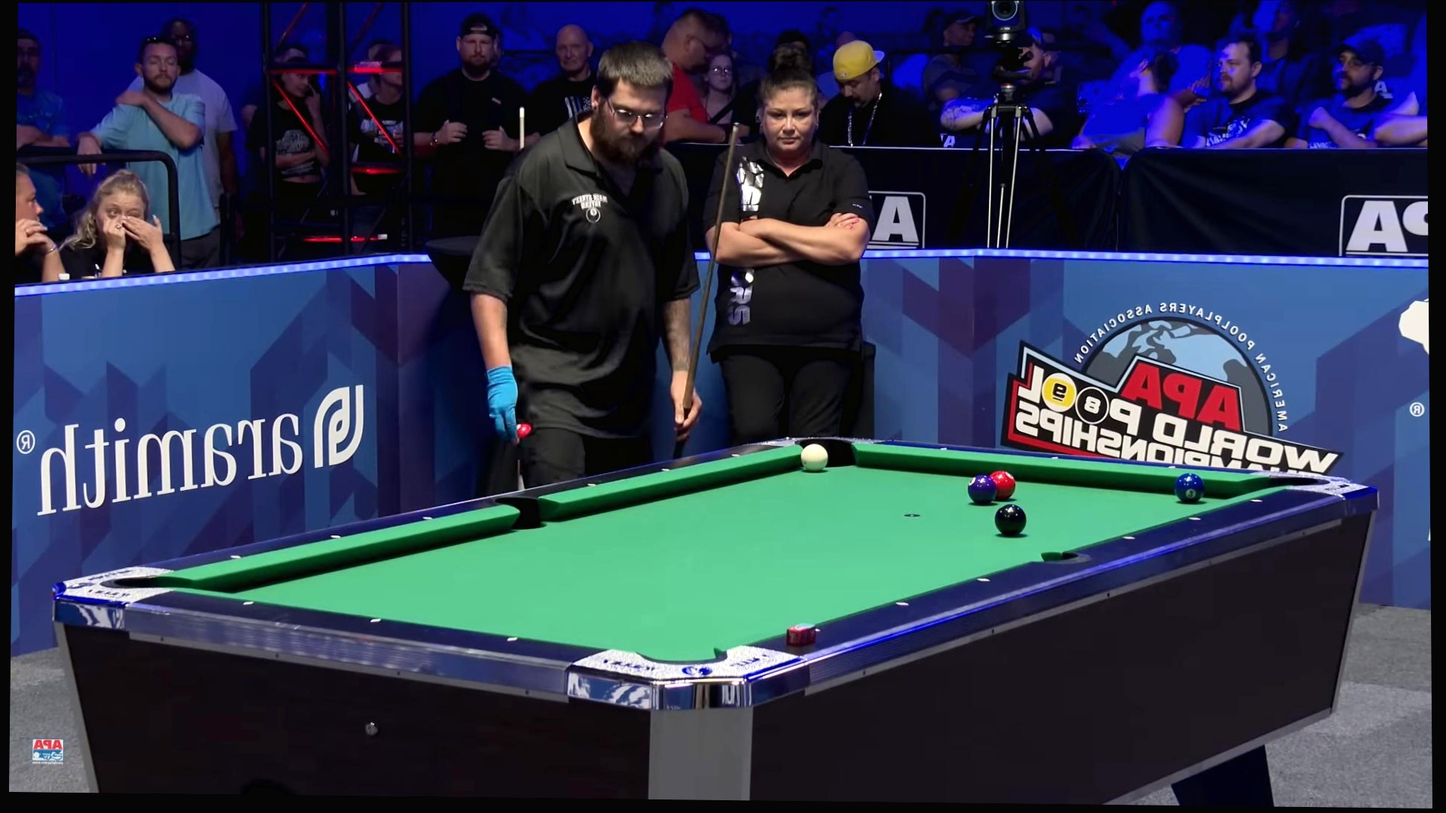Black: (894, 598, 911, 609), (1249, 495, 1266, 506), (726, 450, 743, 461), (328, 531, 345, 542), (239, 597, 256, 608), (366, 614, 383, 625), (504, 633, 521, 644), (976, 574, 992, 585), (583, 479, 599, 490), (228, 552, 244, 563), (807, 625, 824, 635), (1187, 514, 1204, 524), (1164, 462, 1181, 472), (1046, 453, 1063, 463), (934, 444, 951, 454), (657, 465, 674, 475), (1121, 533, 1137, 543), (420, 513, 436, 523)
Cue: (1174, 473, 1205, 504), (968, 474, 997, 505), (989, 471, 1016, 501)
Solid: (994, 504, 1026, 537)
Stripe: (800, 444, 828, 472)
